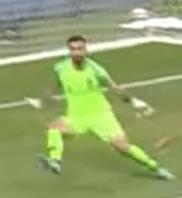goalkeeper: (15, 27, 182, 198)
